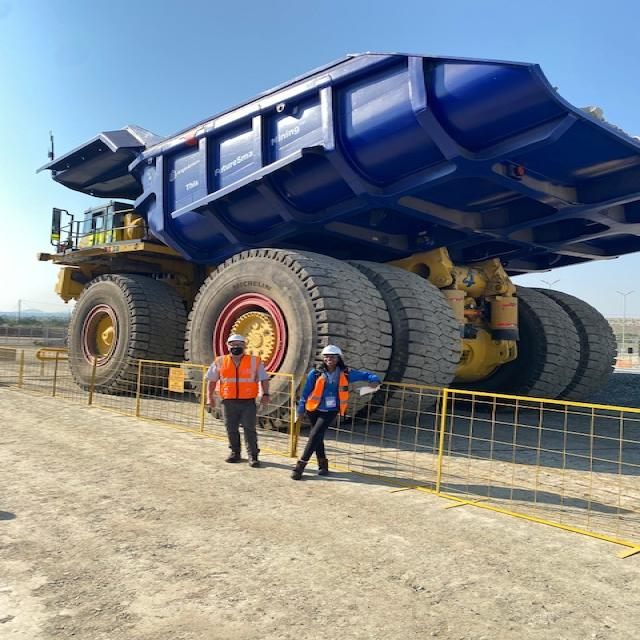dump_truck: (36, 42, 635, 494)
